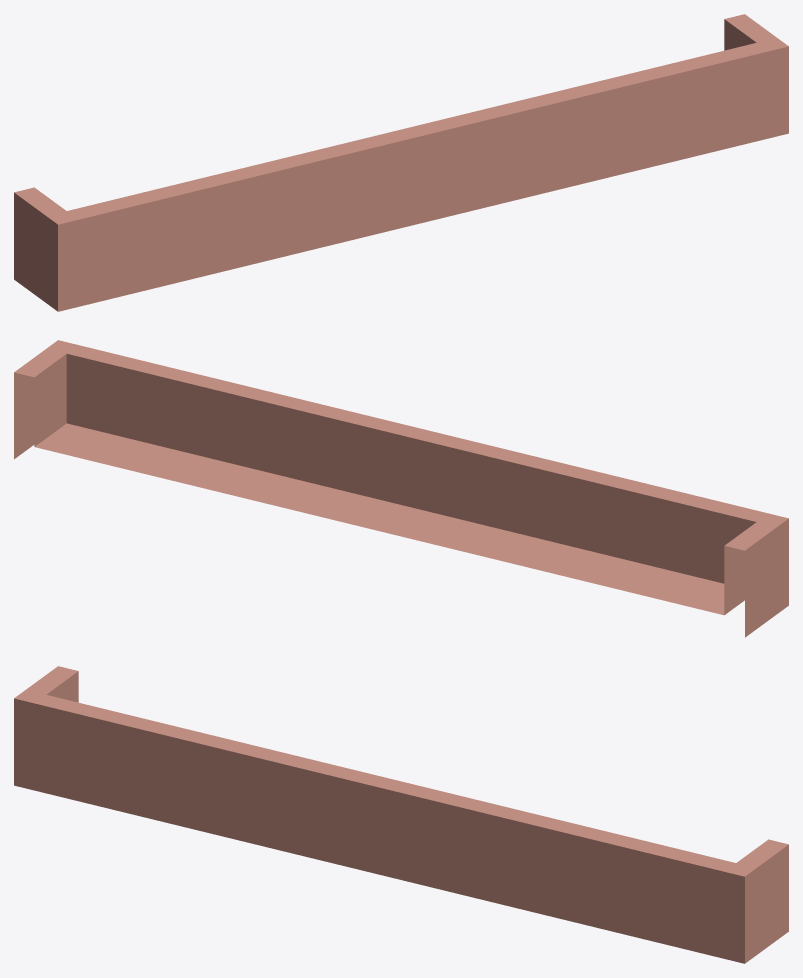
The model's file is Town_Bld-Med_Obj_Balcone.FBX.
The picture shows the model from 3 angles, top to bottom: view 1: azimuth 30°, elevation 25°; view 2: azimuth 150°, elevation 25°; view 3: azimuth 330°, elevation 25°; orthographic projection.
Parts seen in each view (by area): view 1: Town_Bld-Med_Obj_Balcone; view 2: Town_Bld-Med_Obj_Balcone; view 3: Town_Bld-Med_Obj_Balcone.
Boxes of the visible parts, x1,y1,x2,y2 form: Town_Bld-Med_Obj_Balcone: [14, 14, 788, 311]; Town_Bld-Med_Obj_Balcone: [14, 340, 788, 637]; Town_Bld-Med_Obj_Balcone: [14, 666, 788, 963].
Bounding box in the file's own units: 596 × 67.89 × 62.36.
